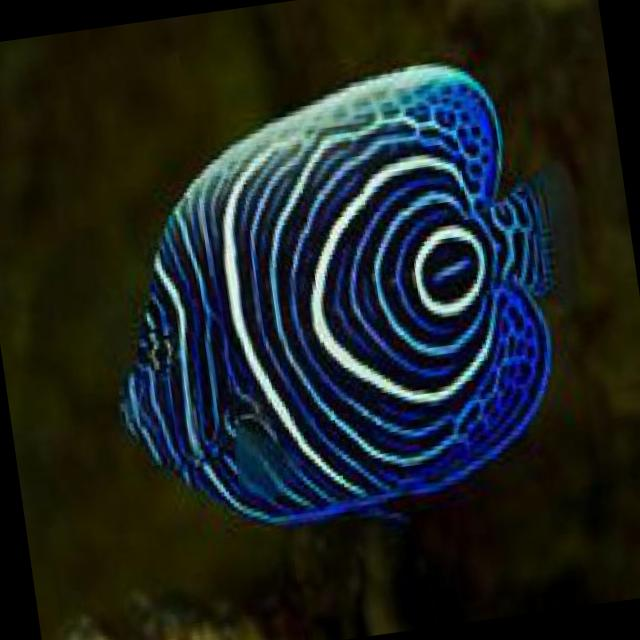AngelFish: (78, 49, 614, 556)
